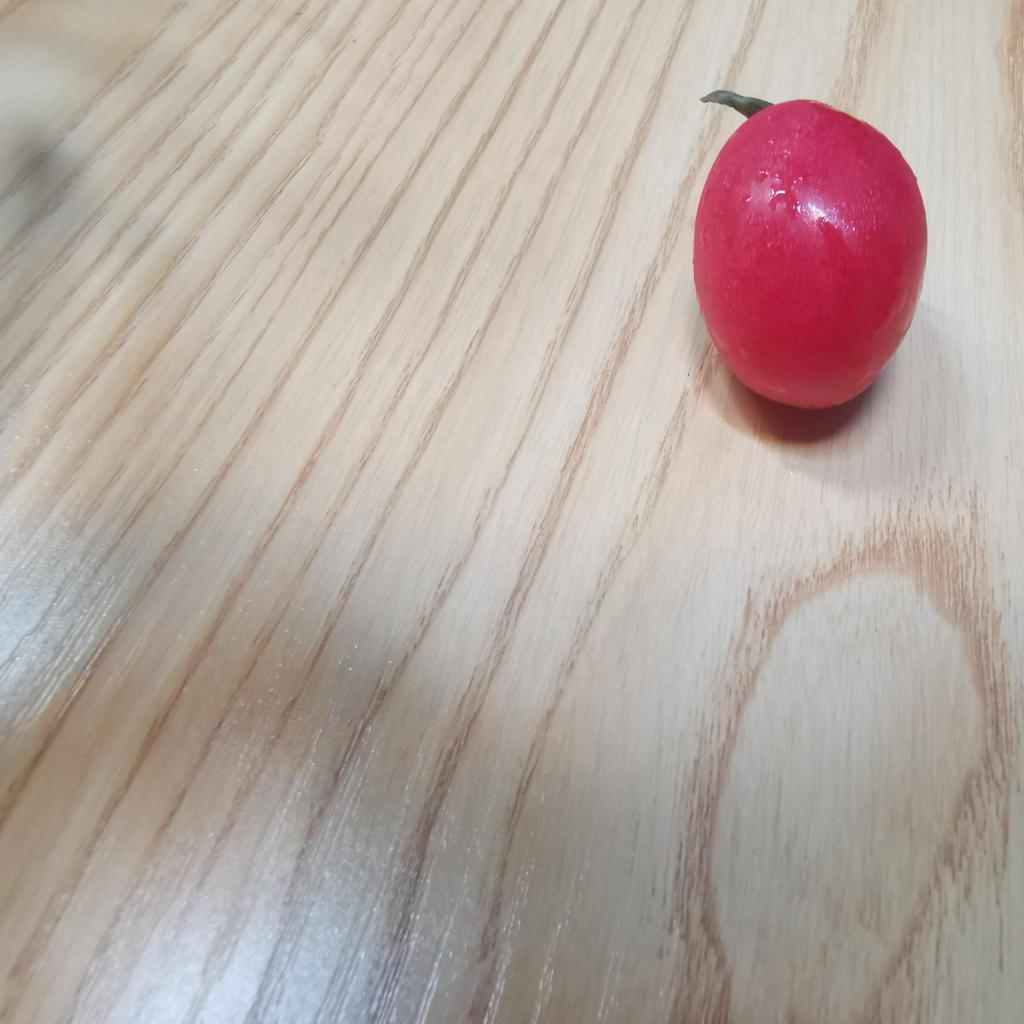tomato: (686, 103, 926, 419)
